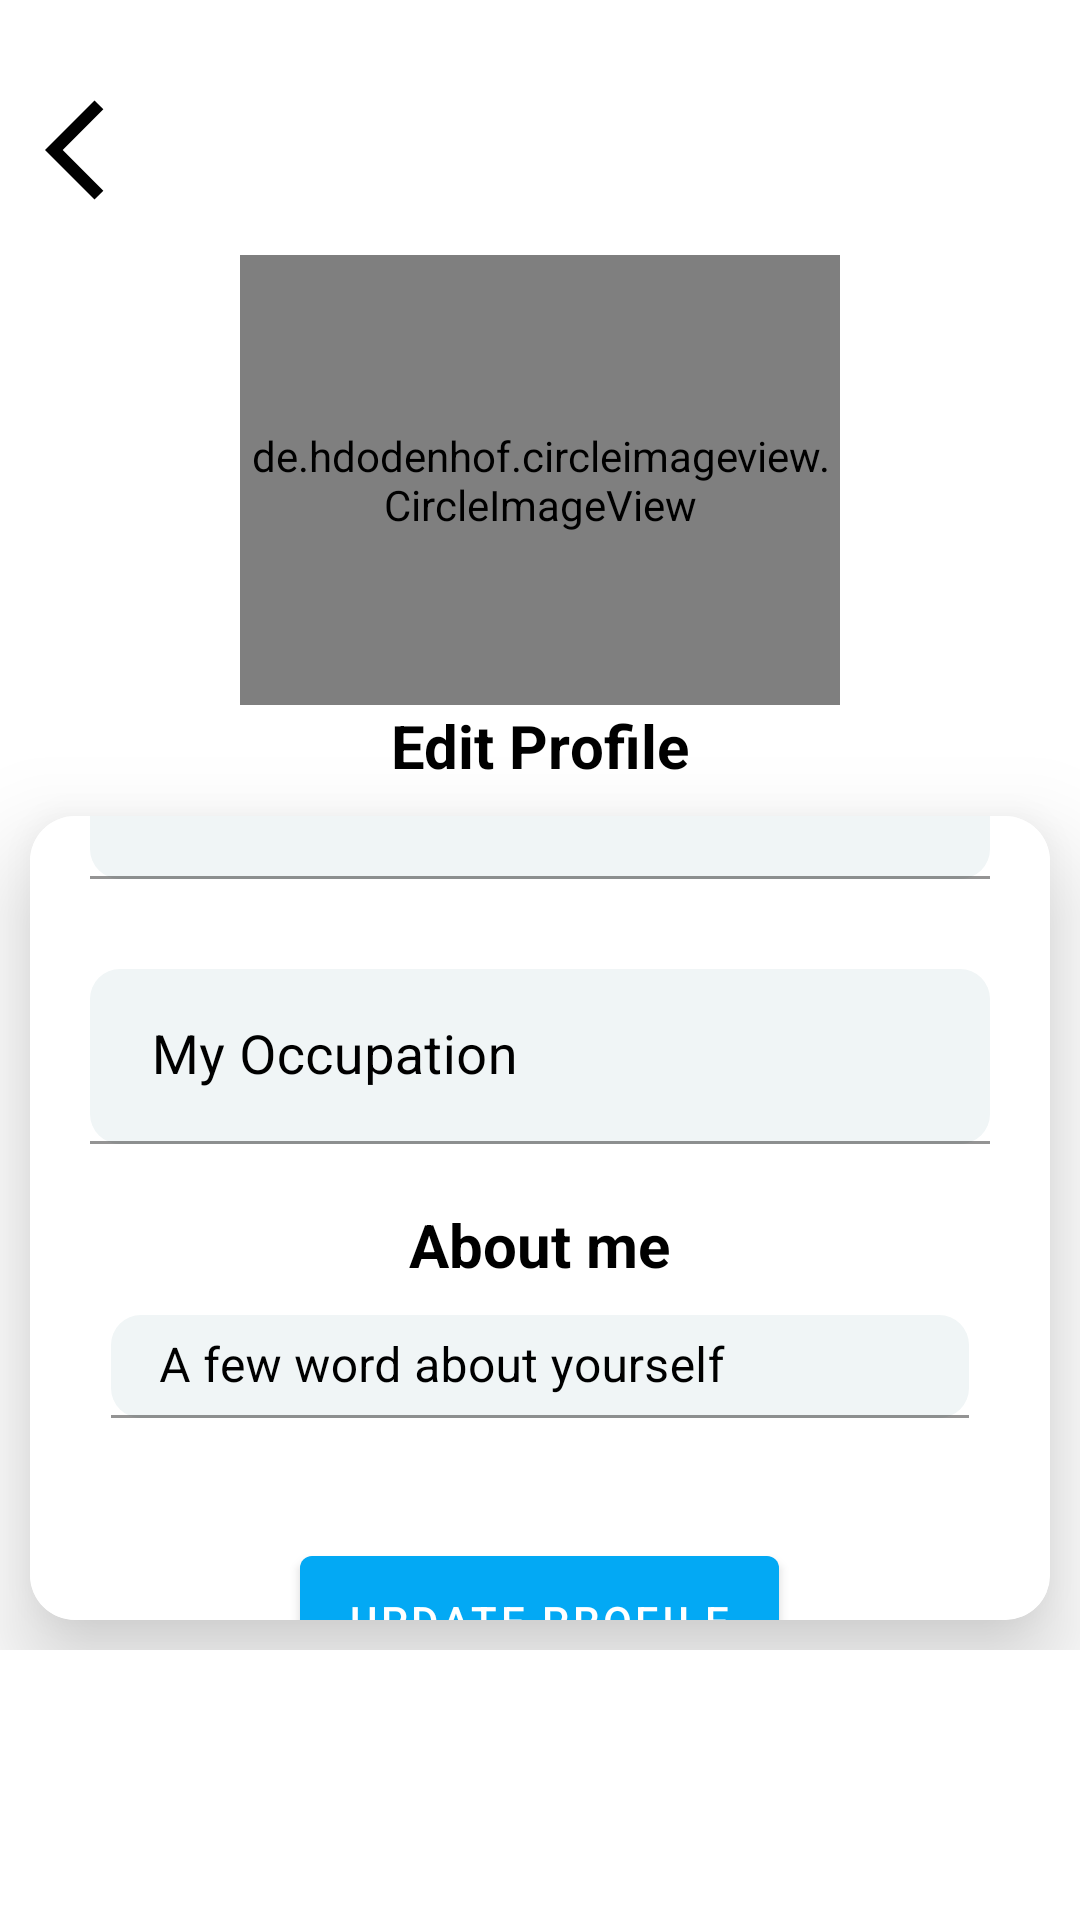

Icon click points for this 1080*1920 phone screenshot, format [x,y]:
back: [74,150]
